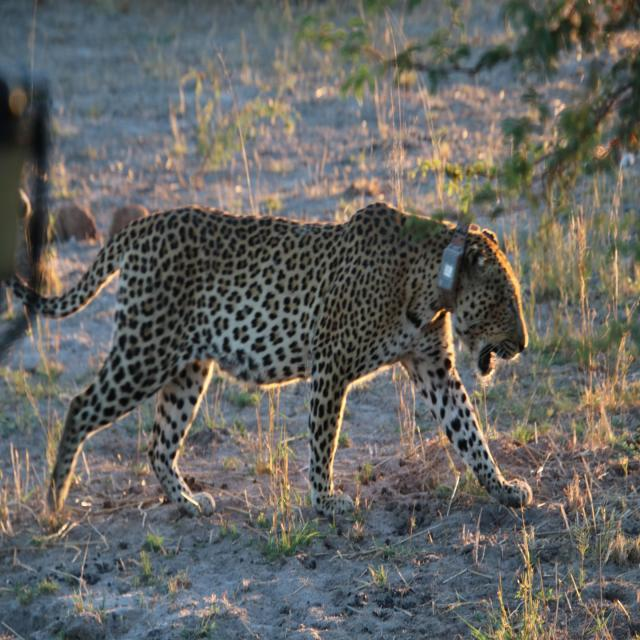Leopard: (18, 193, 530, 543)
